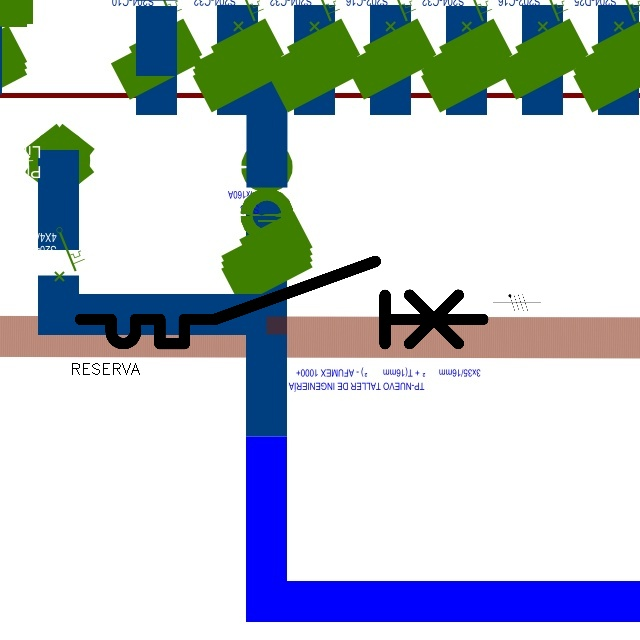interruptor_termomagnetico: (70, 251, 493, 354)
